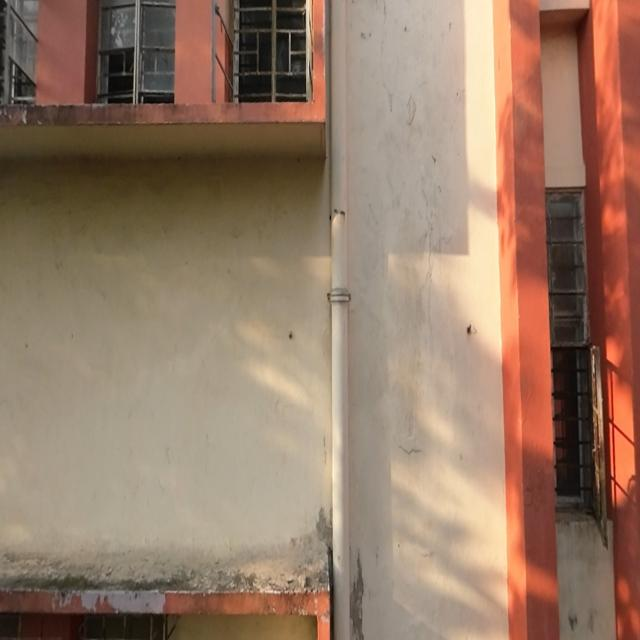Moss growth due to damping: (0, 508, 332, 593), (0, 103, 243, 129)
